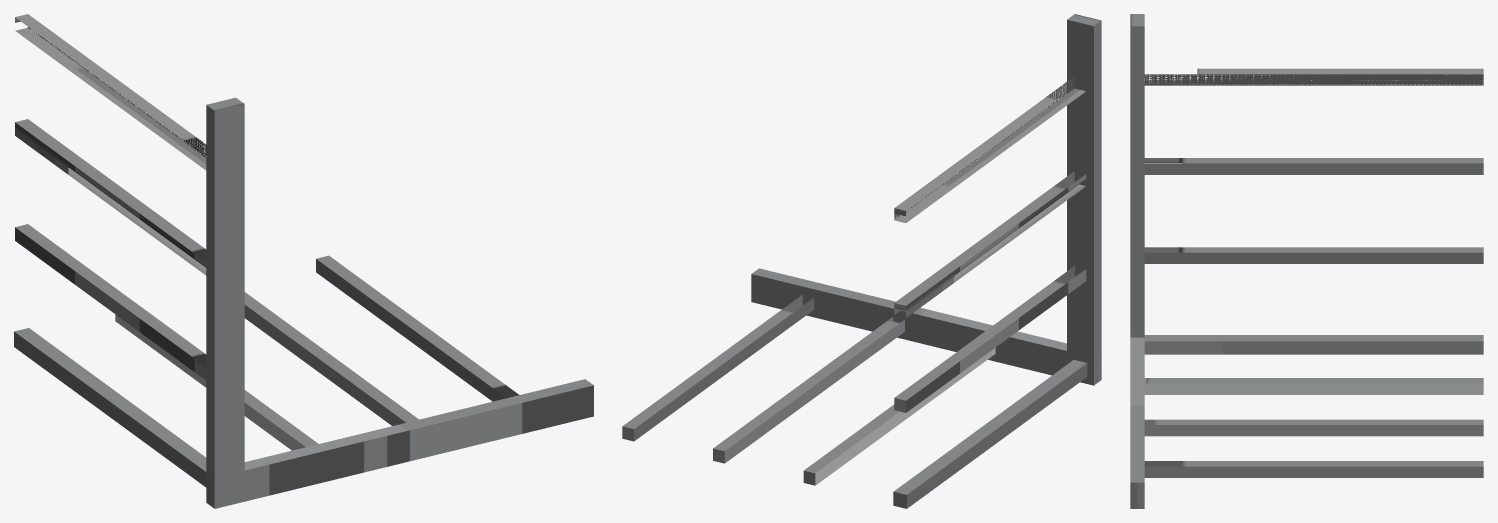
3 views of the same model, side by side, from view 1: azimuth 30°, elevation 25°; view 2: azimuth 150°, elevation 25°; view 3: azimuth 270°, elevation 25° (orthographic). The views are drawn at different scales.
Size of the model in its own units: 1.02 by 1.02 by 0.97.
